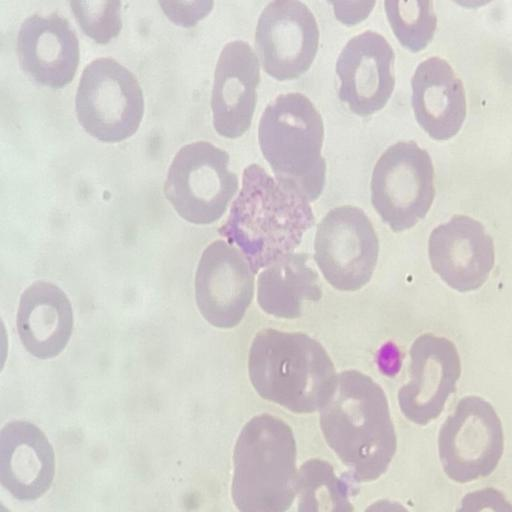Infected: (219, 165, 316, 274)
Uninfected: (318, 371, 394, 478), (255, 93, 326, 198), (248, 329, 334, 413), (230, 414, 301, 508), (370, 139, 438, 233), (164, 141, 238, 224), (74, 58, 143, 141), (313, 205, 380, 290), (437, 395, 502, 481), (401, 334, 461, 425), (193, 239, 255, 326), (335, 31, 396, 116), (254, 0, 319, 79), (427, 214, 493, 291), (210, 40, 261, 137), (14, 279, 74, 360), (410, 55, 466, 141), (0, 418, 55, 501), (16, 14, 79, 86), (255, 257, 320, 320)
